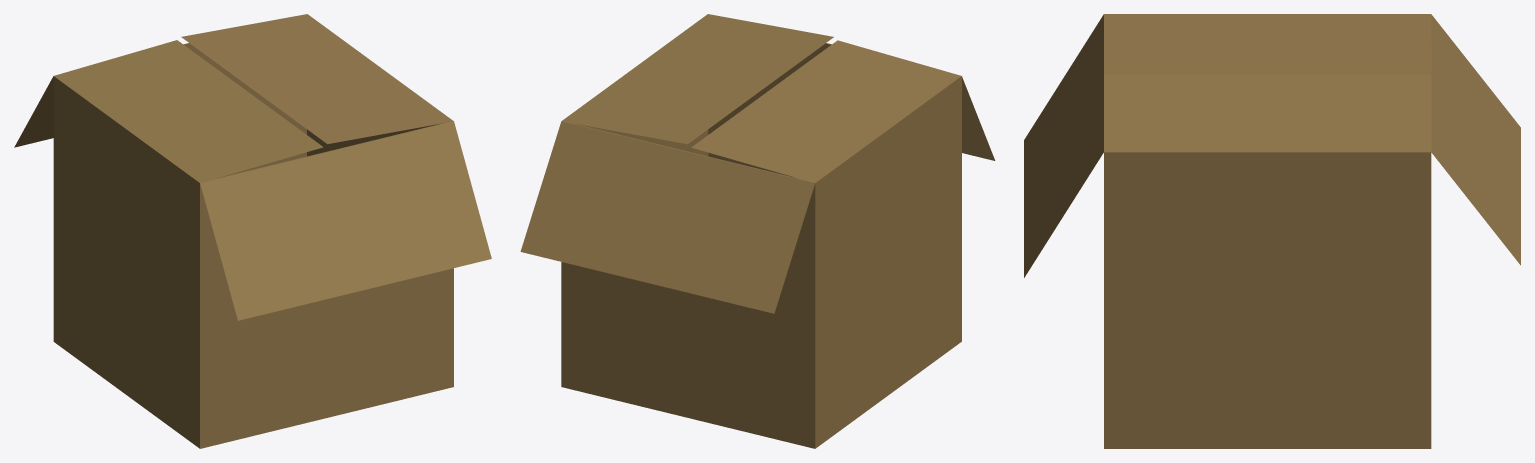
Rendered from cardboardBoxHalfOpen.fbx.
The picture shows the model from 3 angles, left to right: view 1: azimuth 30°, elevation 25°; view 2: azimuth 150°, elevation 25°; view 3: azimuth 270°, elevation 25°; orthographic projection. The views are drawn at different scales.
Visible parts, largest first — view 1: Cube; view 2: Cube; view 3: Cube.
Part boxes in pixels (x1,y1,x2,y2): Cube: (14, 14, 491, 448); Cube: (520, 14, 995, 448); Cube: (1024, 14, 1520, 448).
Bounding box in the file's own units: 202 × 206 × 304.
